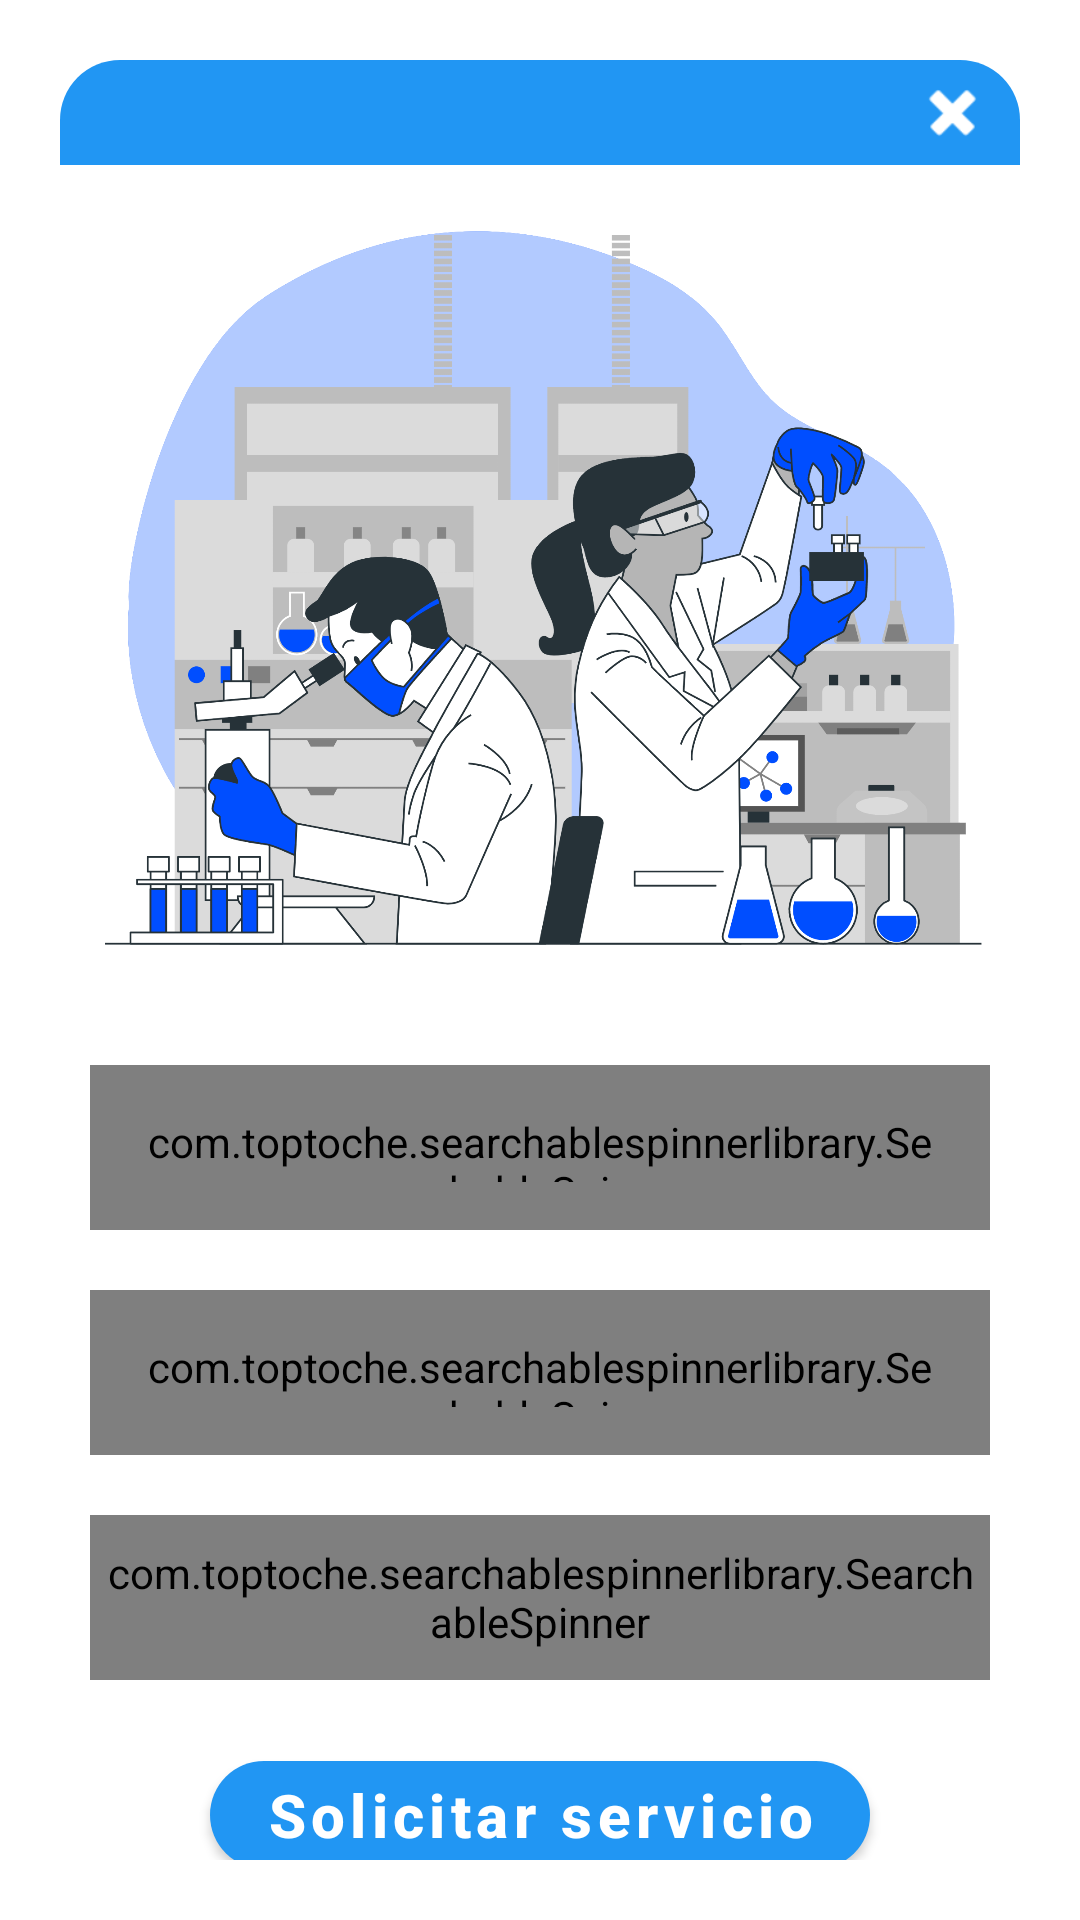

Icon bounding boxes for this 1080px×1920px phone screenshot, format (x1, y1, x2, y2):
delete: (929, 90, 976, 136)
